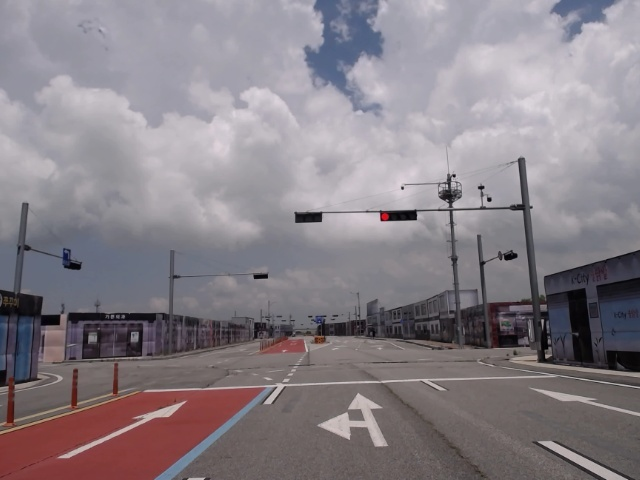red_4: (380, 212, 417, 222)
